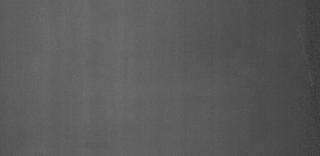oil spot: (82, 136, 115, 150)
